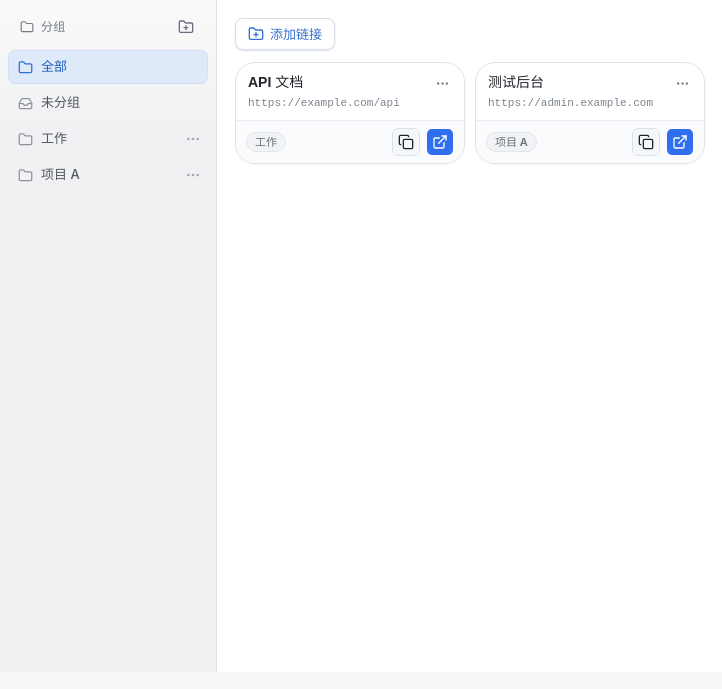
Test: links static interactions › filters cards when a group is selected
Click the button "工作" at x=94, y=139, box [8,122,180,156]
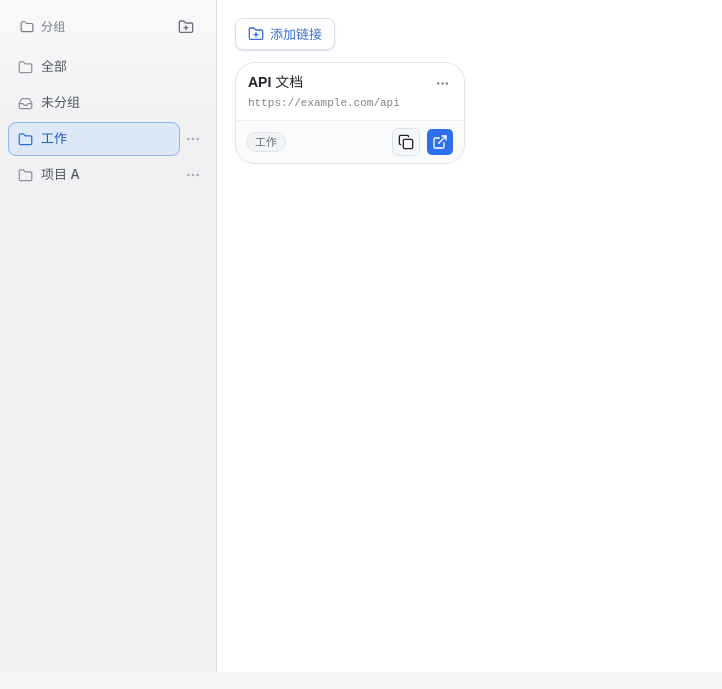
Expected: the heading "API 文档" is shown, [248,74,303,90]
Now the heading "测试后台" is gone
Click the button "全部" at x=108, y=67, box [8,50,208,84]
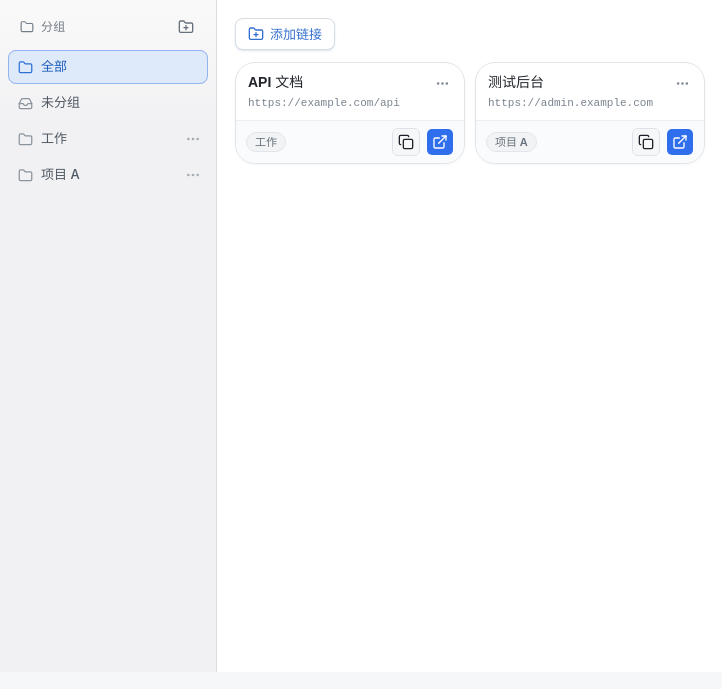
Now the heading "测试后台" is shown, box [488,74,544,90]
